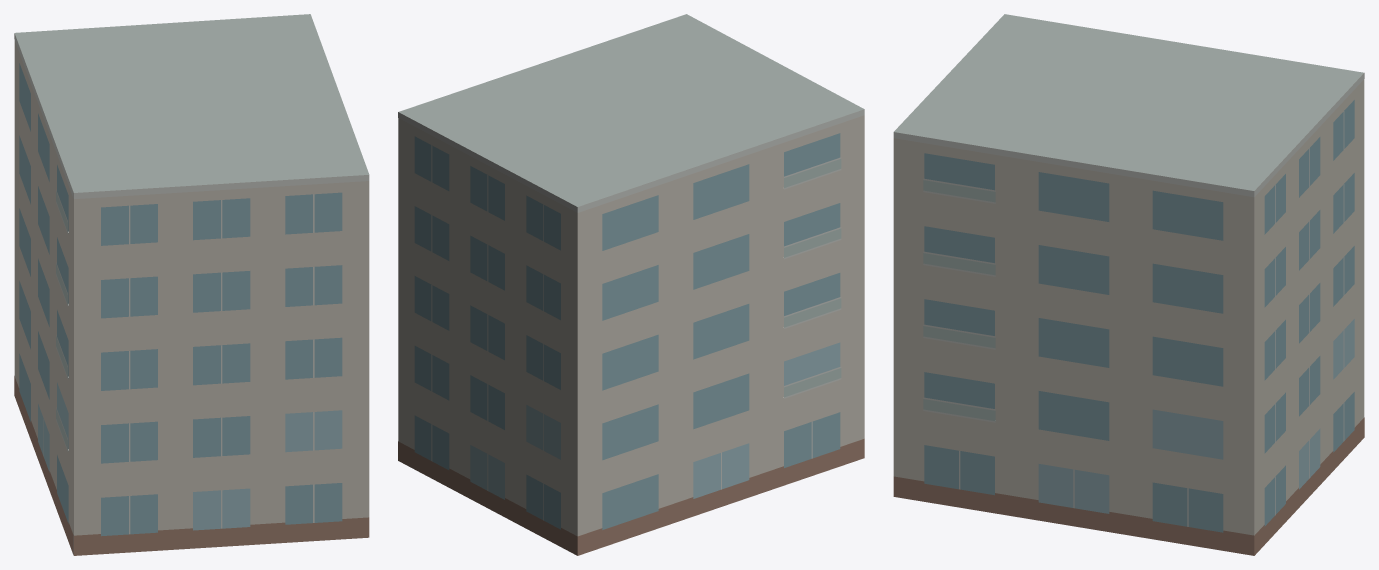
Rendered from survey-upis-32870175.glb.
The picture shows the model from 3 angles, left to right: view 1: azimuth 30°, elevation 25°; view 2: azimuth 150°, elevation 25°; view 3: azimuth 270°, elevation 25°; orthographic projection. The views are drawn at different scales.
Parts seen in each view (by area): view 1: survey-upis-32870175.tmp; view 2: survey-upis-32870175.tmp; view 3: survey-upis-32870175.tmp.
Part boxes in pixels (x1,y1,x2,y2): survey-upis-32870175.tmp: (14, 14, 369, 555); survey-upis-32870175.tmp: (398, 14, 864, 555); survey-upis-32870175.tmp: (893, 14, 1364, 555).
Bounding box in the file's own units: 15 × 14.4 × 16.86.
